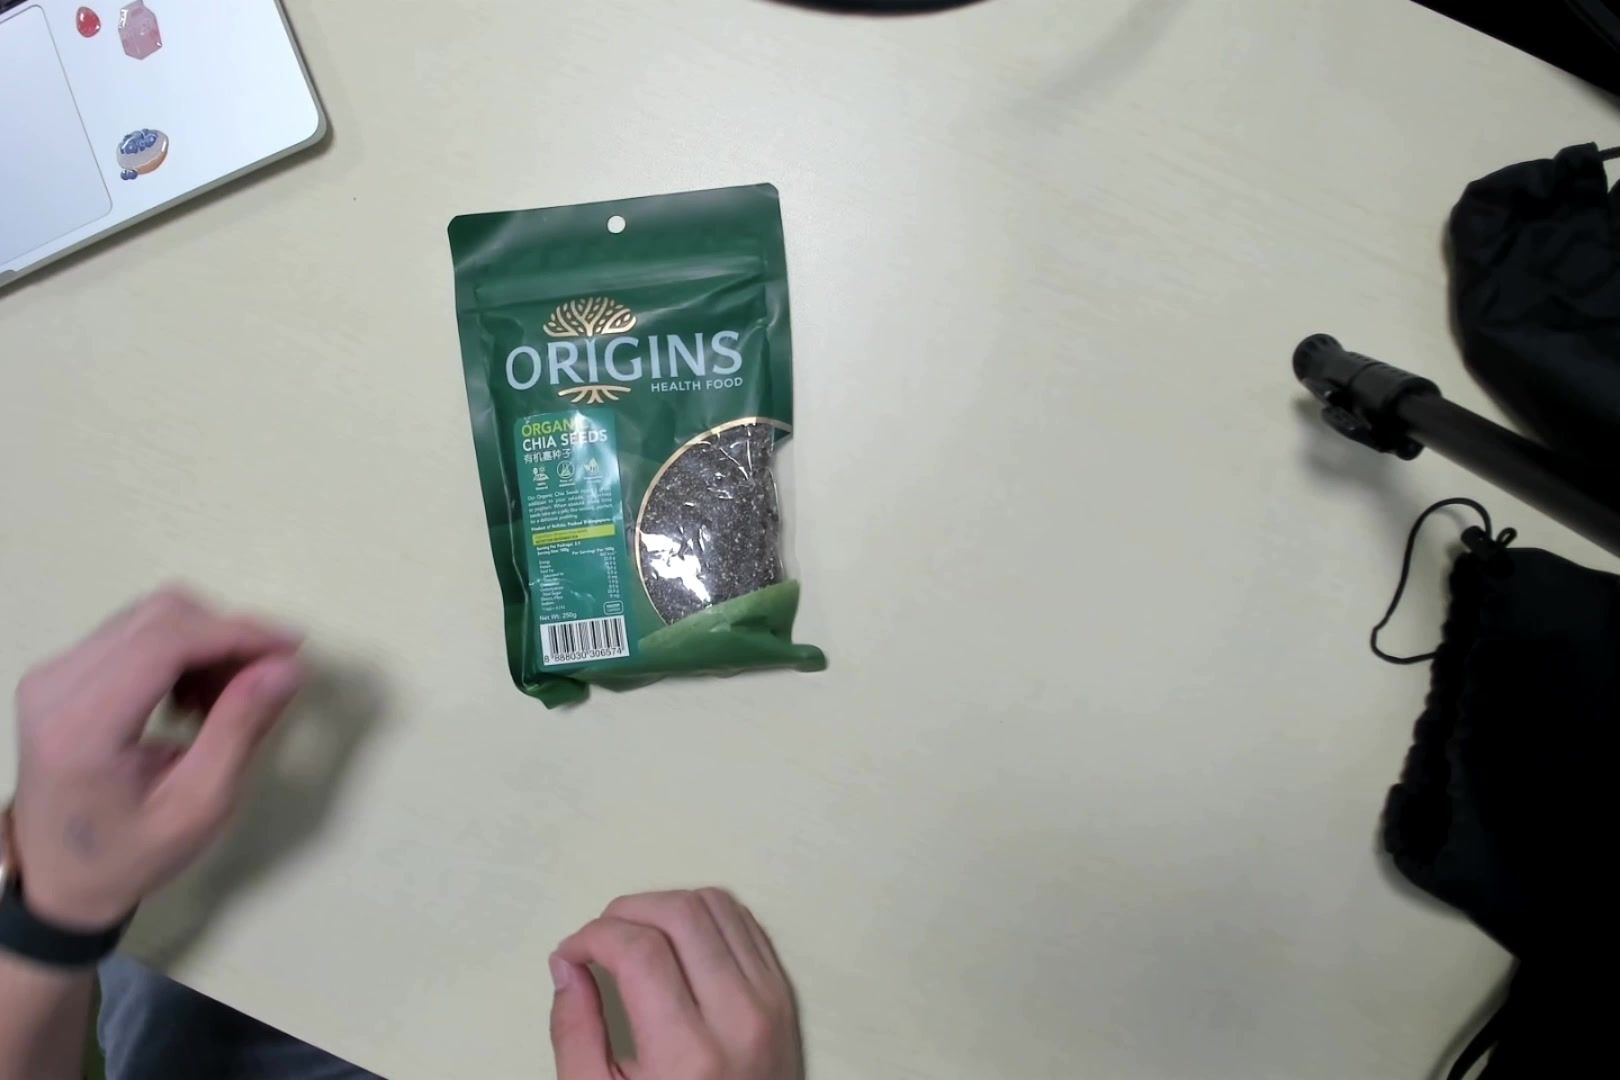OtherDriedFood_200-299g_NonHalal_NonHealthy: (454, 194, 816, 702)
